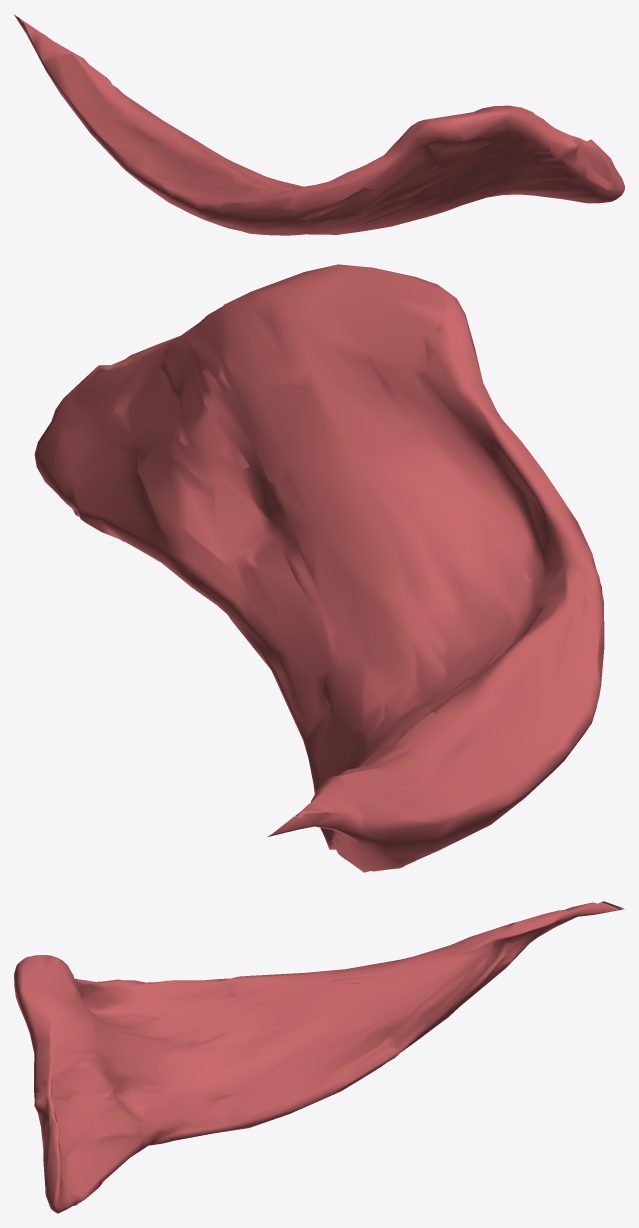
3 views of the same model, one above another, from view 1: azimuth 30°, elevation 25°; view 2: azimuth 150°, elevation 25°; view 3: azimuth 270°, elevation 25° (orthographic). The views are drawn at different scales.
Parts seen in each view (by area): view 1: 右侧三角肌锁骨部; view 2: 右侧三角肌锁骨部; view 3: 右侧三角肌锁骨部.
Part boxes in pixels (x1,y1,x2,y2): 右侧三角肌锁骨部: (14, 14, 624, 235); 右侧三角肌锁骨部: (34, 264, 604, 872); 右侧三角肌锁骨部: (14, 901, 624, 1213).
Bounding box in the file's own units: 0.1857 × 0.0808 × 0.2291.
